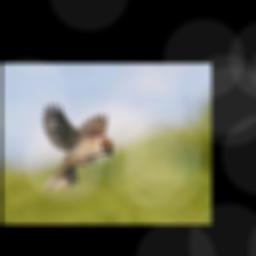Sparrow: (43, 102, 114, 192)
